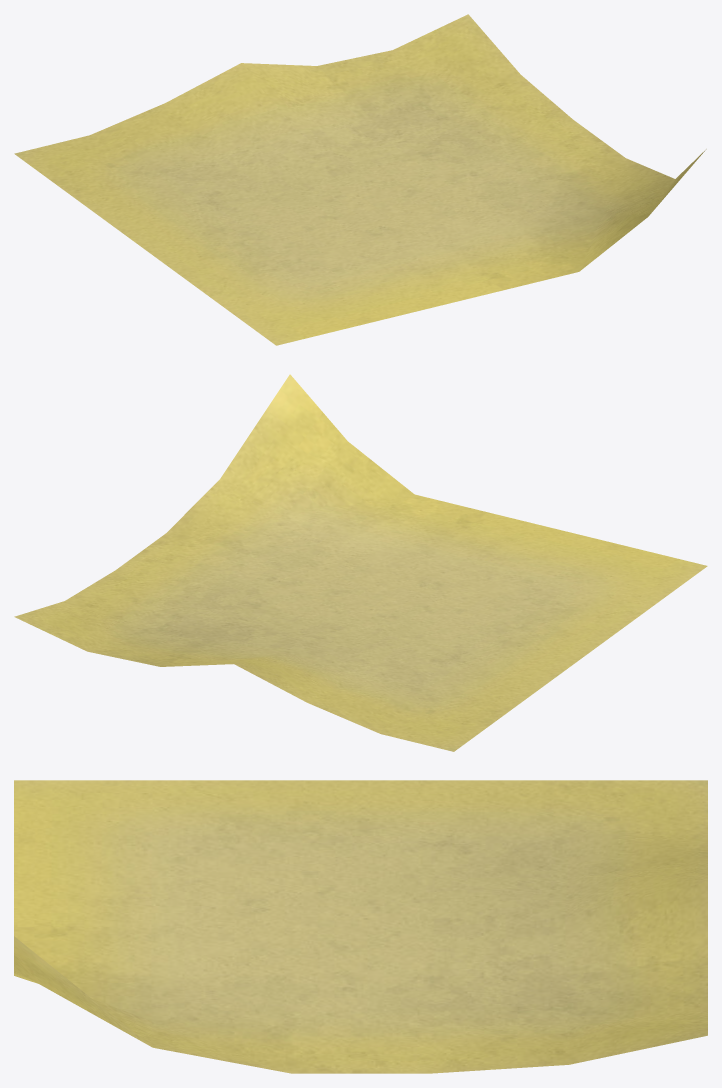
The model's file is sticky-note-web.glb.
3 renders of one model, top to bottom at view 1: azimuth 30°, elevation 25°; view 2: azimuth 150°, elevation 25°; view 3: azimuth 270°, elevation 25°, orthographic. The views are drawn at different scales.
Parts seen in each view (by area): view 1: Sticky_Note; view 2: Sticky_Note; view 3: Sticky_Note.
Part boxes in pixels (<box>): Sticky_Note: <box>14,14,706,345</box>; Sticky_Note: <box>14,374,707,751</box>; Sticky_Note: <box>14,780,707,1073</box>.
Bounding box in the file's own units: 0.076 × 0.0149 × 0.076.
1 material, 1 textured.
